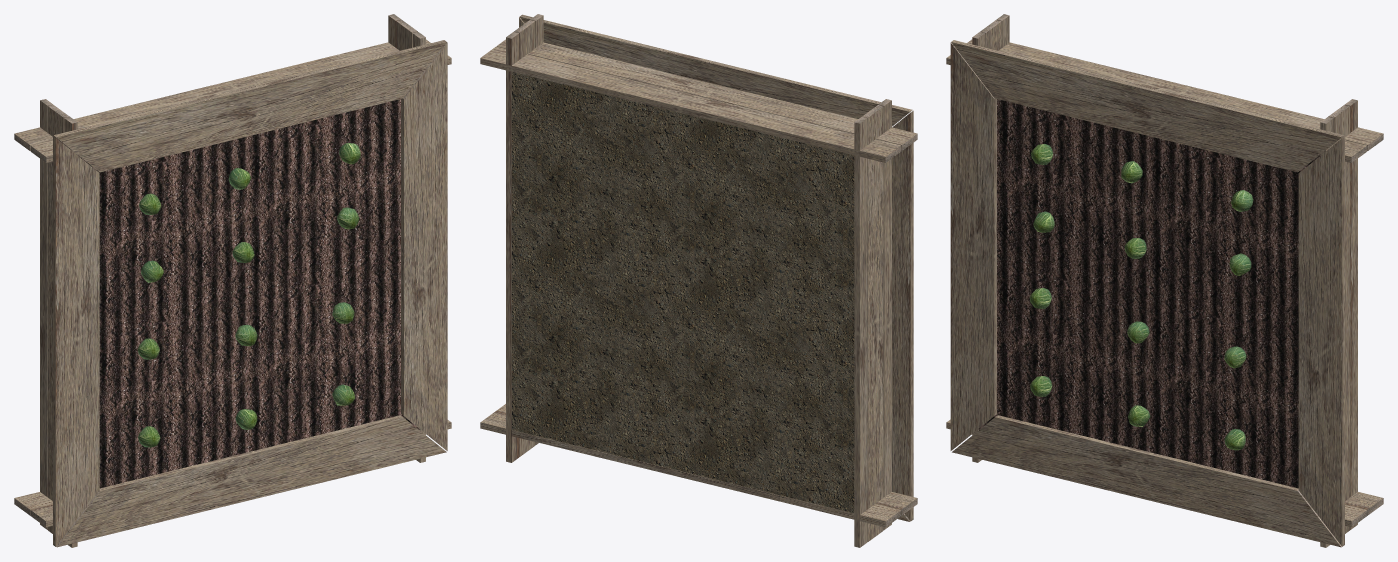
The model's file is cabbage-tended.dae.
3 renders of one model, left to right at view 1: azimuth 30°, elevation 25°; view 2: azimuth 150°, elevation 25°; view 3: azimuth 330°, elevation 25°, orthographic.
Visible parts, largest first — view 1: dirt, top_2_Cube_022, top_1_Cube_016, top_4_Cube_023, top_3_Cube_021, plank_01_Cube_02, plank_03_Cube_004, plank_04_Cube_006, plank_06_Cube_009; view 2: dirt, plank_01_Cube_02, top_2_Cube_022, top_1_Cube_016, plank_04_Cube_006, plank_02_Cube_03, plank_03_Cube_004, plank_06_Cube_009, plank_05_Cube_007, plank_08_Cube_011, plank_09_Cube_013, plank_07_Cube_010; view 3: dirt, top_1_Cube_016, top_4_Cube_023, top_2_Cube_022, top_3_Cube_021, plank_01_Cube_02, plank_08_Cube_011, plank_09_Cube_013, plank_06_Cube_009.
Boxes of the visible parts, box(x1,y1,x2,y2) form: dirt: box(78, 99, 419, 488); top_2_Cube_022: box(53, 136, 99, 546); top_1_Cube_016: box(54, 40, 446, 172); top_4_Cube_023: box(401, 42, 447, 450); top_3_Cube_021: box(56, 415, 446, 547); plank_01_Cube_02: box(14, 39, 430, 150); plank_03_Cube_004: box(40, 99, 53, 529); plank_04_Cube_006: box(48, 105, 69, 533); plank_06_Cube_009: box(14, 492, 52, 515); dirt: box(512, 72, 854, 513); plank_01_Cube_02: box(480, 46, 901, 162); top_2_Cube_022: box(892, 110, 913, 521); top_1_Cube_016: box(519, 14, 912, 126); plank_04_Cube_006: box(862, 105, 883, 541); plank_02_Cube_03: box(496, 39, 917, 150); plank_03_Cube_004: box(854, 117, 867, 547); plank_06_Cube_009: box(480, 411, 901, 527); plank_05_Cube_007: box(878, 99, 891, 529); plank_08_Cube_011: box(506, 32, 519, 462); plank_09_Cube_013: box(514, 20, 535, 456); plank_07_Cube_010: box(496, 404, 917, 515); dirt: box(978, 99, 1320, 488); top_1_Cube_016: box(951, 40, 1343, 172); top_4_Cube_023: box(1298, 136, 1344, 546); top_2_Cube_022: box(950, 42, 996, 450); top_3_Cube_021: box(952, 415, 1341, 547); plank_01_Cube_02: box(967, 39, 1383, 150); plank_08_Cube_011: box(1344, 99, 1357, 529); plank_09_Cube_013: box(1328, 105, 1349, 533); plank_06_Cube_009: box(1345, 492, 1383, 515).
Bounding box in the file's own units: 3.68 × 3.68 × 0.6535.
Materials: 4 (4 with a texture image).
